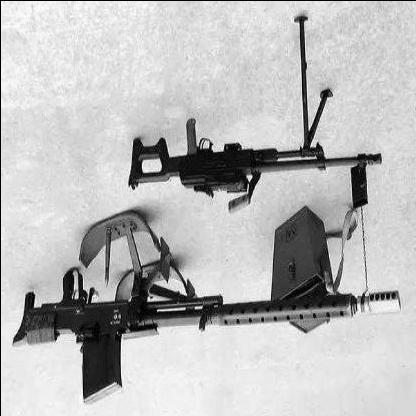rifle: (9, 244, 406, 400), (124, 59, 377, 220)
